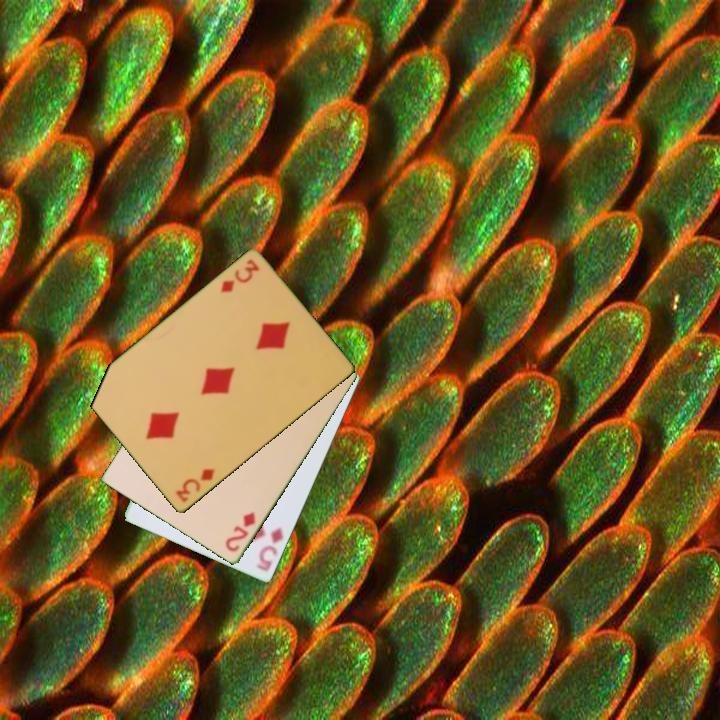2d: (222, 509, 259, 555)
3d: (172, 465, 218, 506), (217, 256, 262, 296)
5d: (253, 524, 287, 575)
